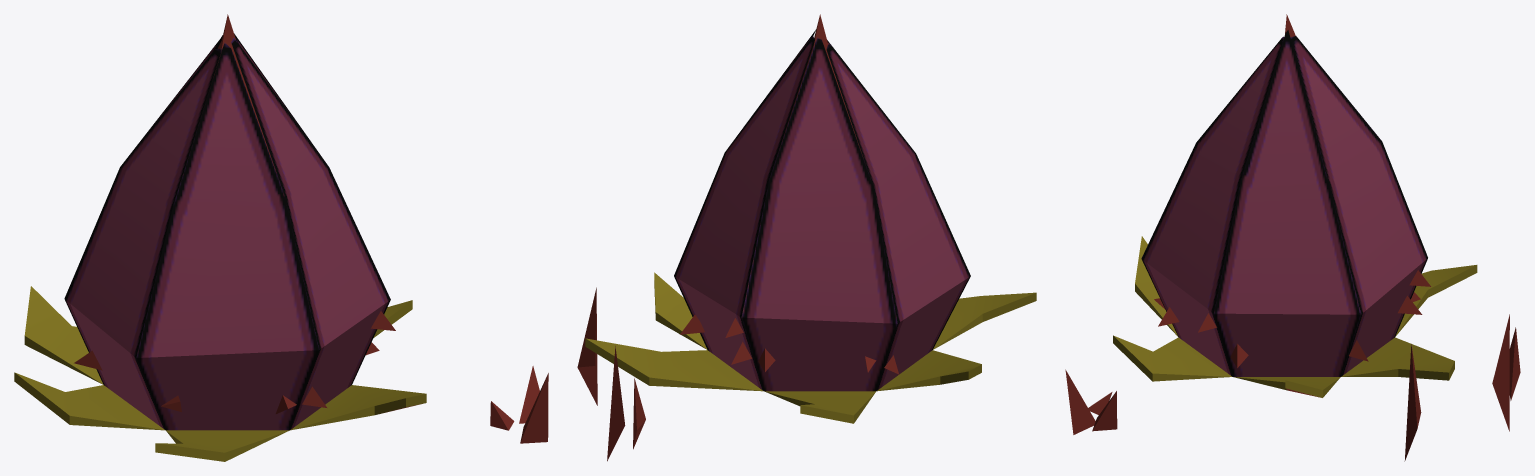
Rendered from Pests-MainPoint1.fbx.
The picture shows the model from 3 angles, left to right: view 1: azimuth 30°, elevation 25°; view 2: azimuth 150°, elevation 25°; view 3: azimuth 270°, elevation 25°; orthographic projection. The views are drawn at different scales.
Parts seen in each view (by area): view 1: Pests-MainPoint1; view 2: Pests-MainPoint1; view 3: Pests-MainPoint1.
Boxes of the visible parts, x1,y1,x2,y2 form: Pests-MainPoint1: [14, 14, 548, 461]; Pests-MainPoint1: [577, 14, 1036, 461]; Pests-MainPoint1: [1065, 14, 1520, 461].
Size of the model in its own units: 0.8273 by 0.9414 by 0.8498.
Materials: 3 (1 with a texture image).
